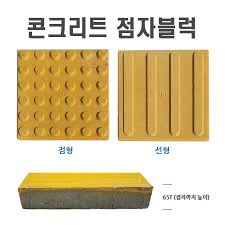guide_blocks: (120, 51, 207, 138), (18, 50, 106, 136)
